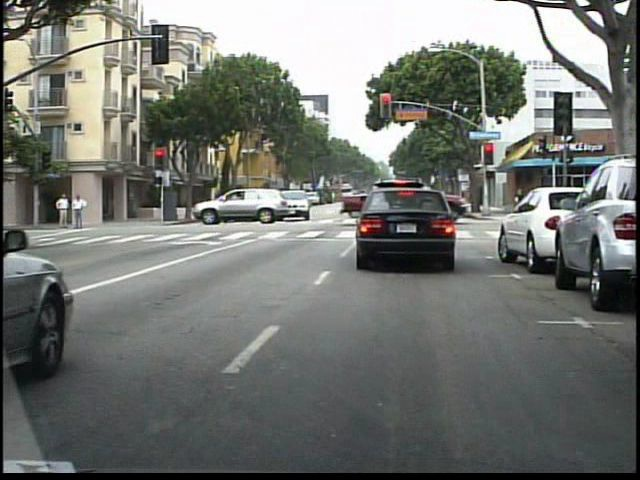person: (50, 189, 68, 232), (69, 191, 85, 231)
